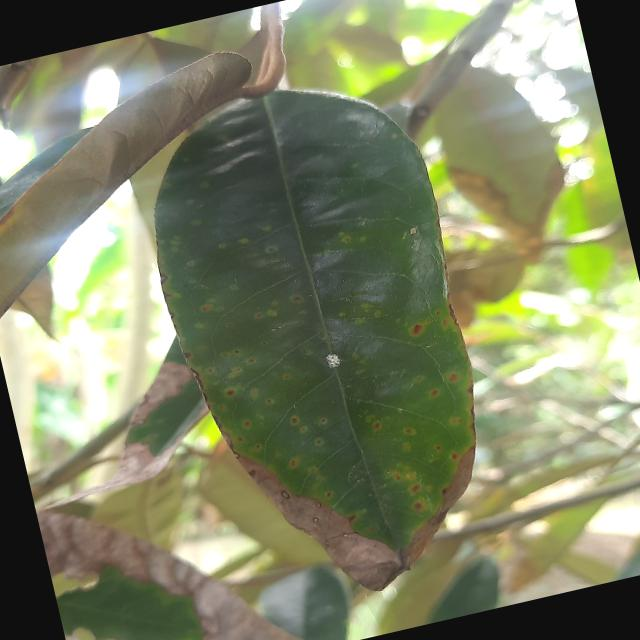Leaf Spot: (121, 38, 528, 627)
